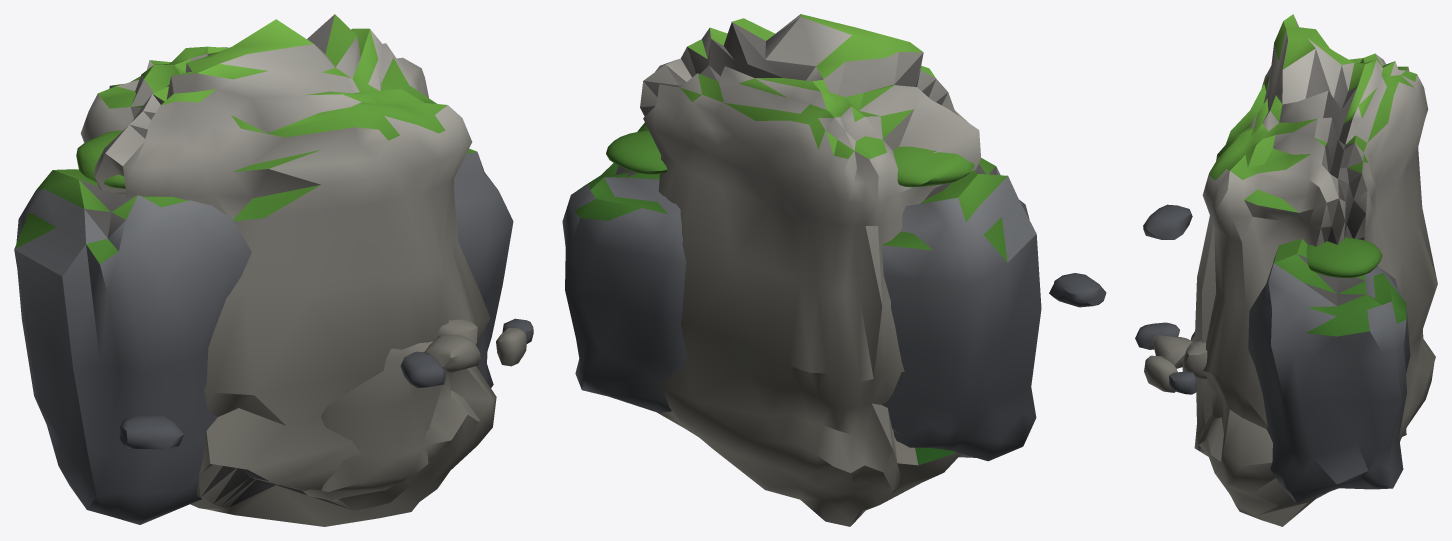
File: Cliff_A.fbx
3 views of the same model, side by side, from view 1: azimuth 30°, elevation 25°; view 2: azimuth 150°, elevation 25°; view 3: azimuth 270°, elevation 25° (orthographic). The views are drawn at different scales.
Parts seen in each view (by area): view 1: Cliff_A_LOD0; view 2: Cliff_A_LOD0; view 3: Cliff_A_LOD0.
Boxes of the visible parts, bbox=[...] form: Cliff_A_LOD0: bbox=[14, 14, 533, 526]; Cliff_A_LOD0: bbox=[562, 14, 1106, 526]; Cliff_A_LOD0: bbox=[1135, 14, 1437, 526].
Size of what is drawn, in the model's own units: 12.75 by 13.11 by 8.33.
Materials: 1 (1 with a texture image).
